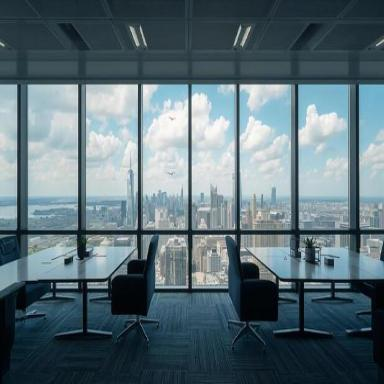glass_panel: (84, 86, 138, 232), (240, 84, 293, 230), (298, 84, 350, 231), (26, 84, 78, 230), (142, 84, 188, 230), (192, 85, 236, 230), (358, 84, 384, 230), (27, 236, 75, 302), (87, 236, 135, 301), (0, 86, 18, 229), (191, 235, 234, 286), (154, 234, 188, 288), (360, 236, 383, 258)
